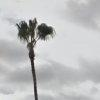Palm tree: (11, 11, 77, 100)
